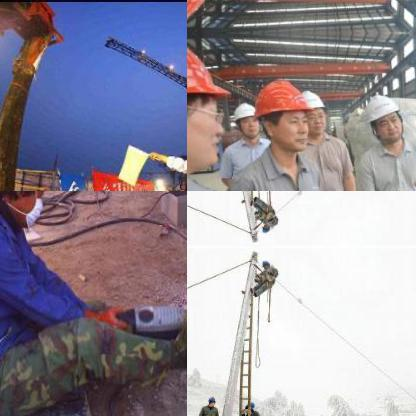Helmet: (187, 37, 231, 177), (252, 76, 310, 154), (359, 90, 405, 144), (0, 191, 62, 218), (297, 86, 329, 138), (187, 0, 232, 27), (232, 99, 260, 135), (244, 399, 254, 413), (260, 257, 268, 271), (260, 219, 268, 233), (206, 393, 214, 405), (321, 413, 332, 415)
